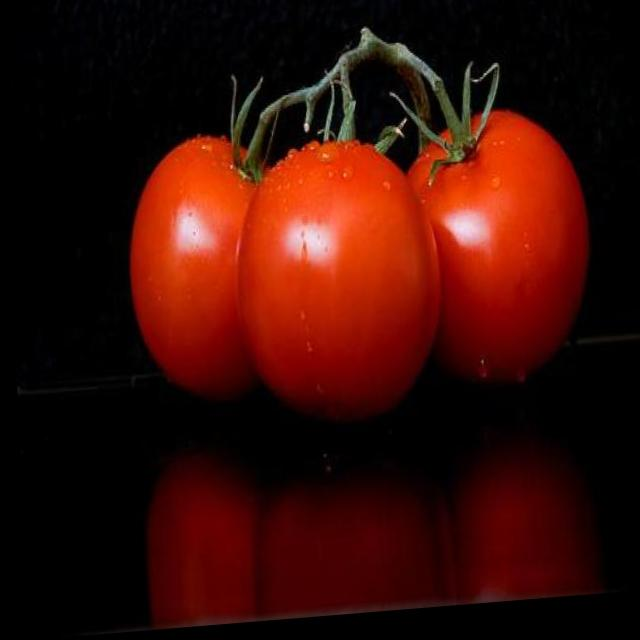kirmizi: (110, 78, 616, 439)
